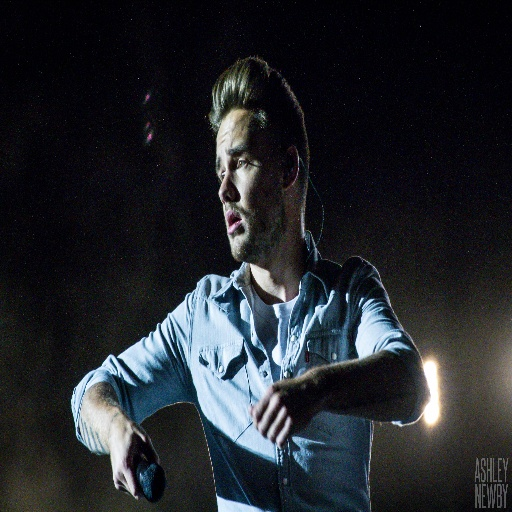hand: (247, 375, 313, 448), (109, 412, 161, 501)
